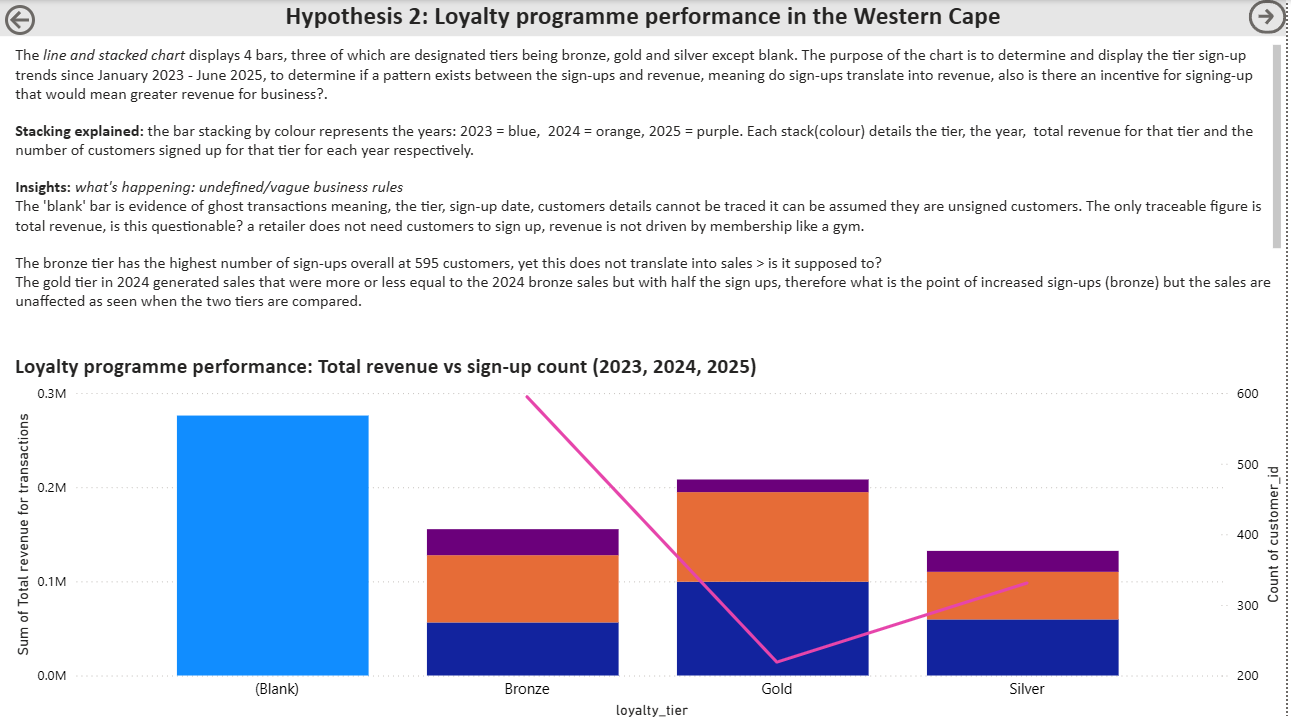

Layout of this report page (visuals, bound fields, positions):
{"tool":"powerbi","page":{"name":"Hypothesis 2","canvas":[1280,720],"ordinal":2},"visuals":[{"type":"textbox","title":"Hypothesis 2: Loyalty programme performance in the Western Cape","box":[0,0,1280,36],"z":0},{"type":"lineStackedColumnComboChart","title":"Loyalty programme performance: Total revenue vs sign-up count (2023, 2024, 2025)","fields":{"Category":["customers.loyalty_tier"],"Y":["Sum(transaction_items.Total revenue for transactions)"],"Series":["customers.signup_date.Variation.Date Hierarchy.Year"],"Y2":["CountNonNull(customers.customer_id)"]},"box":[10,350.8,1270.1,369.5],"z":1000},{"type":"textbox","box":[10,39.8,1270.1,278.6],"z":2000},{"type":"actionButton","box":[0,0,41.1,39.8],"z":3000},{"type":"actionButton","box":[1242.7,0,37.3,33.6],"z":4000}]}

Visuals, with their boxes in screenshot pixels (x1, y1, x2, y2), scaled from the page's 1280x720 canvas onto the 1291x717 screenshot:
"Hypothesis 2: Loyalty programme performance in the Western Cape" textbox: <region>0, 0, 1290, 36</region>
"Loyalty programme performance: Total revenue vs sign-up count (2023, 2024, 2025)" lineStackedColumnComboChart: <region>10, 349, 1290, 716</region>
textbox: <region>10, 40, 1290, 317</region>
actionButton: <region>0, 0, 41, 40</region>
actionButton: <region>1253, 0, 1290, 33</region>
